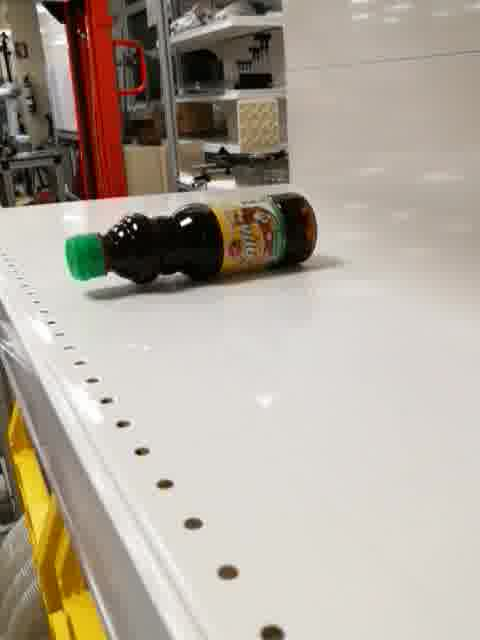cookingoil: (61, 190, 320, 288)
